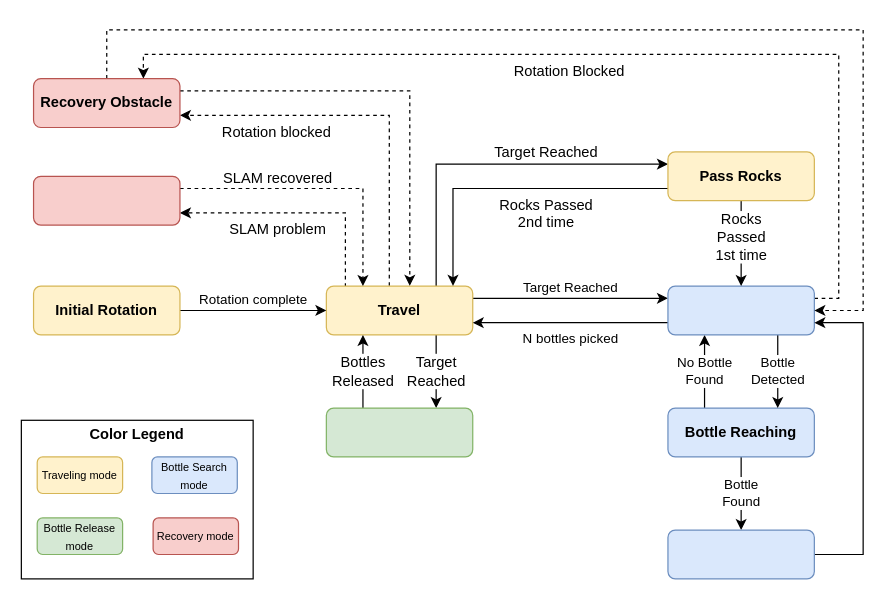
Image size: 894x600. Some labels were removed from this diagram. The centre of each missing label's shape, as x and y in pixels:
"Bottle Picking" goes at (x=740, y=554).
"Bottle Release" goes at (x=399, y=432).
"Bottle Search" goes at (x=740, y=310).
"Recovery SLAM" goes at (x=106, y=200).
